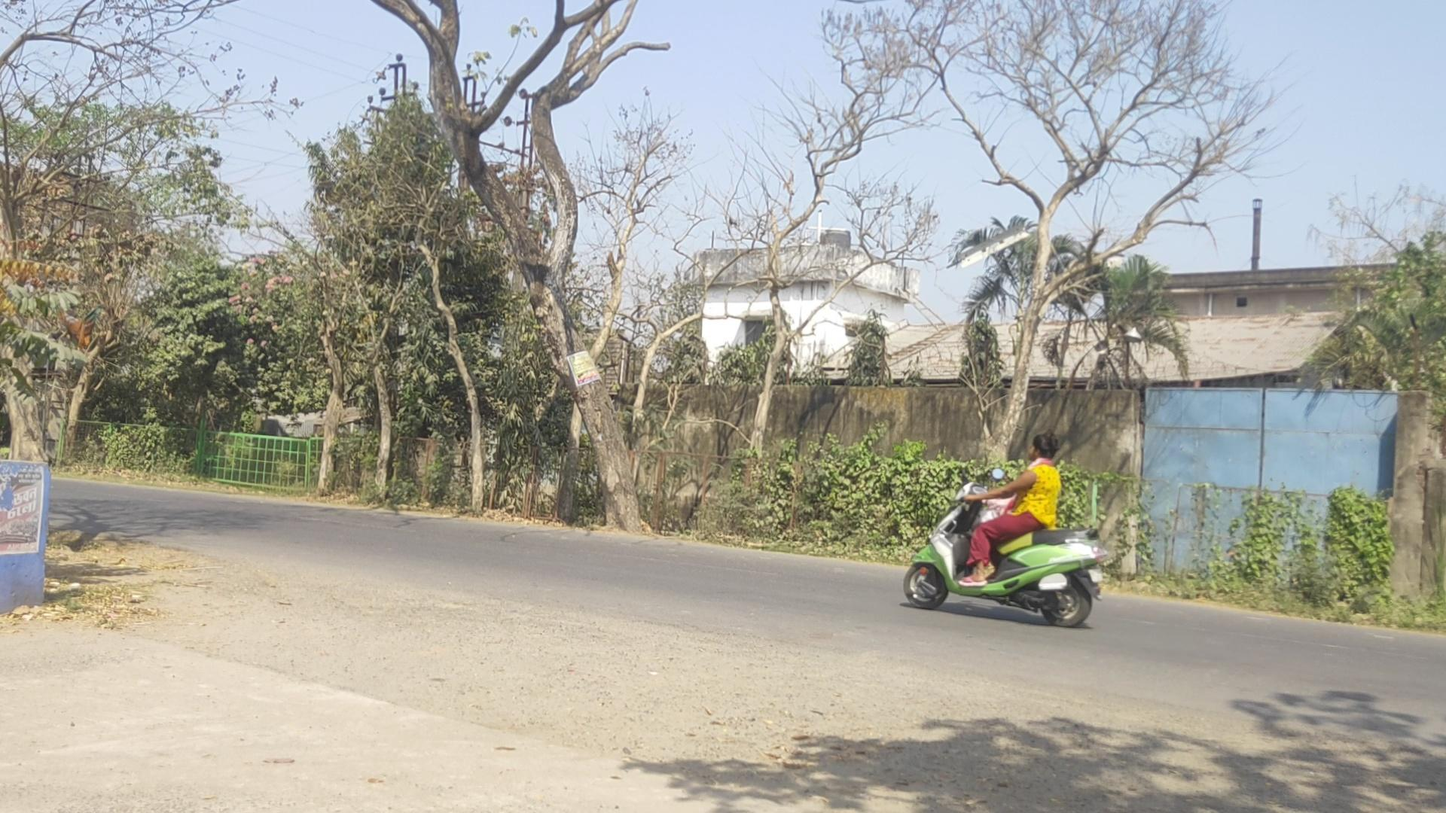bike: (903, 431, 1109, 628)
